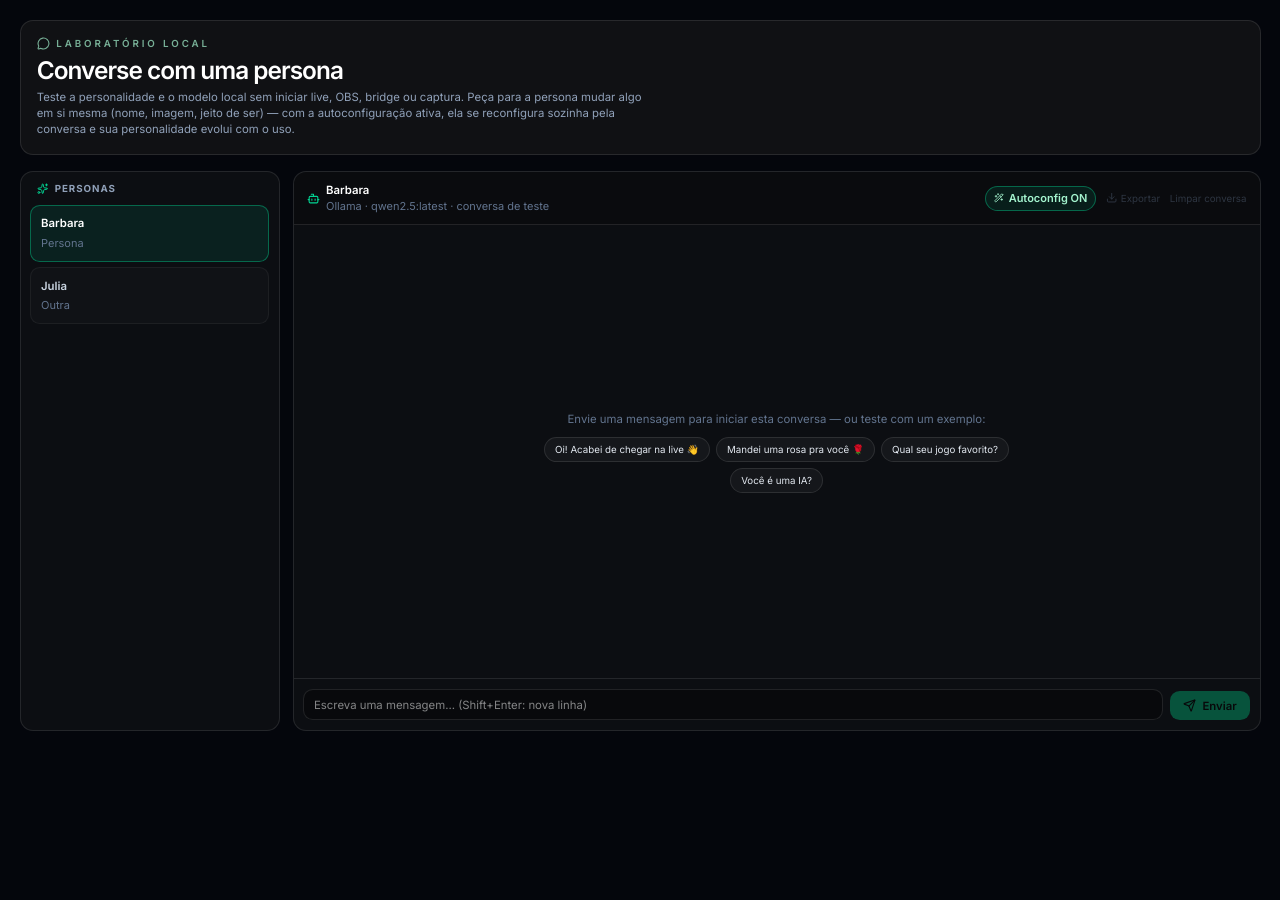
Test case: PersonaChatLab › não manda avisos de sistema nem falhas como contexto para a IA
The image size is (1280, 900).
Check: the button "Barbara Persona" is shown, box [30,204,269,262]
Type "primeira" into the text box named "Mensagem para a persona". click: [733, 705]
box: [303,689,1164,720]
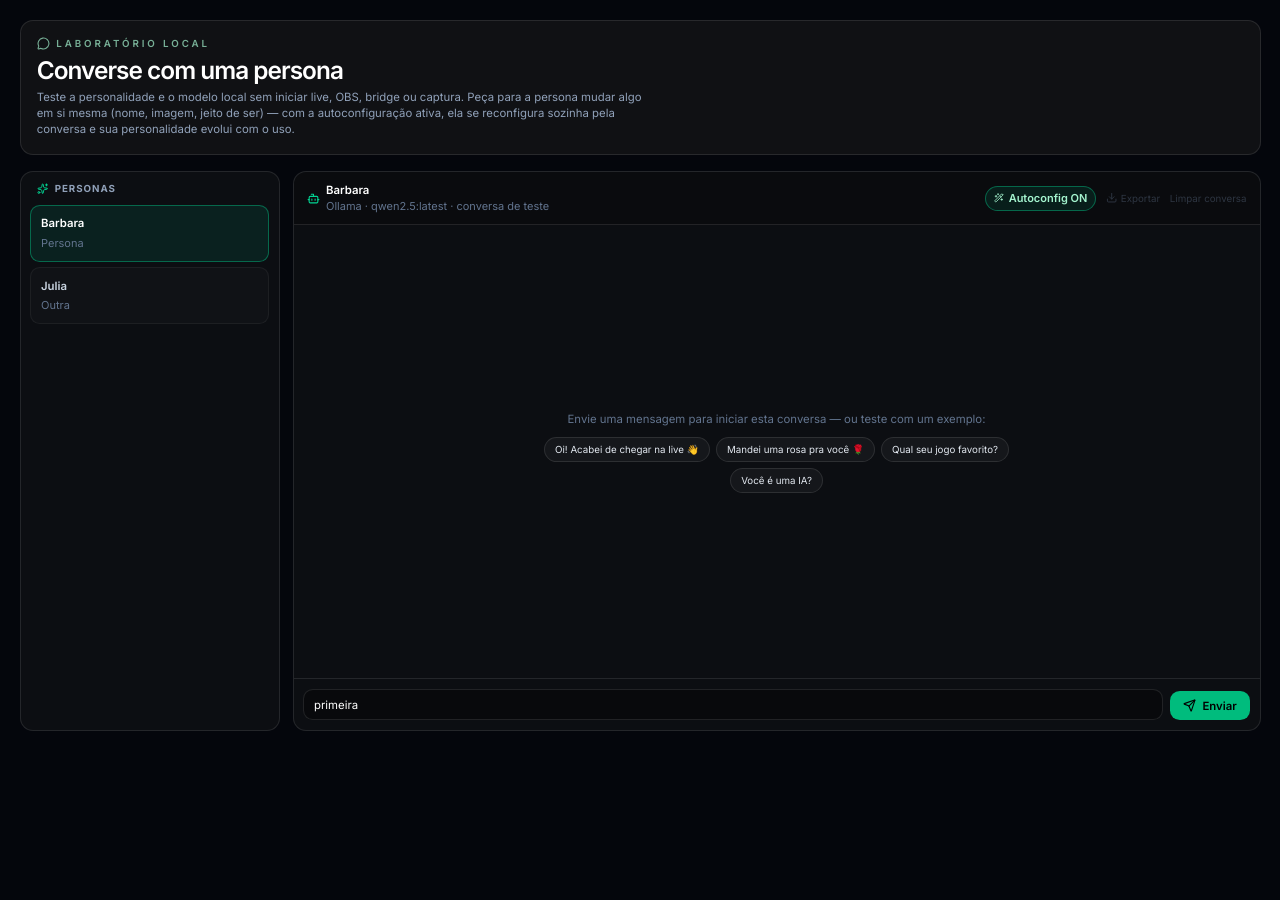
Click the button "Enviar". click: [1210, 706]
box: [1170,691,1250,720]
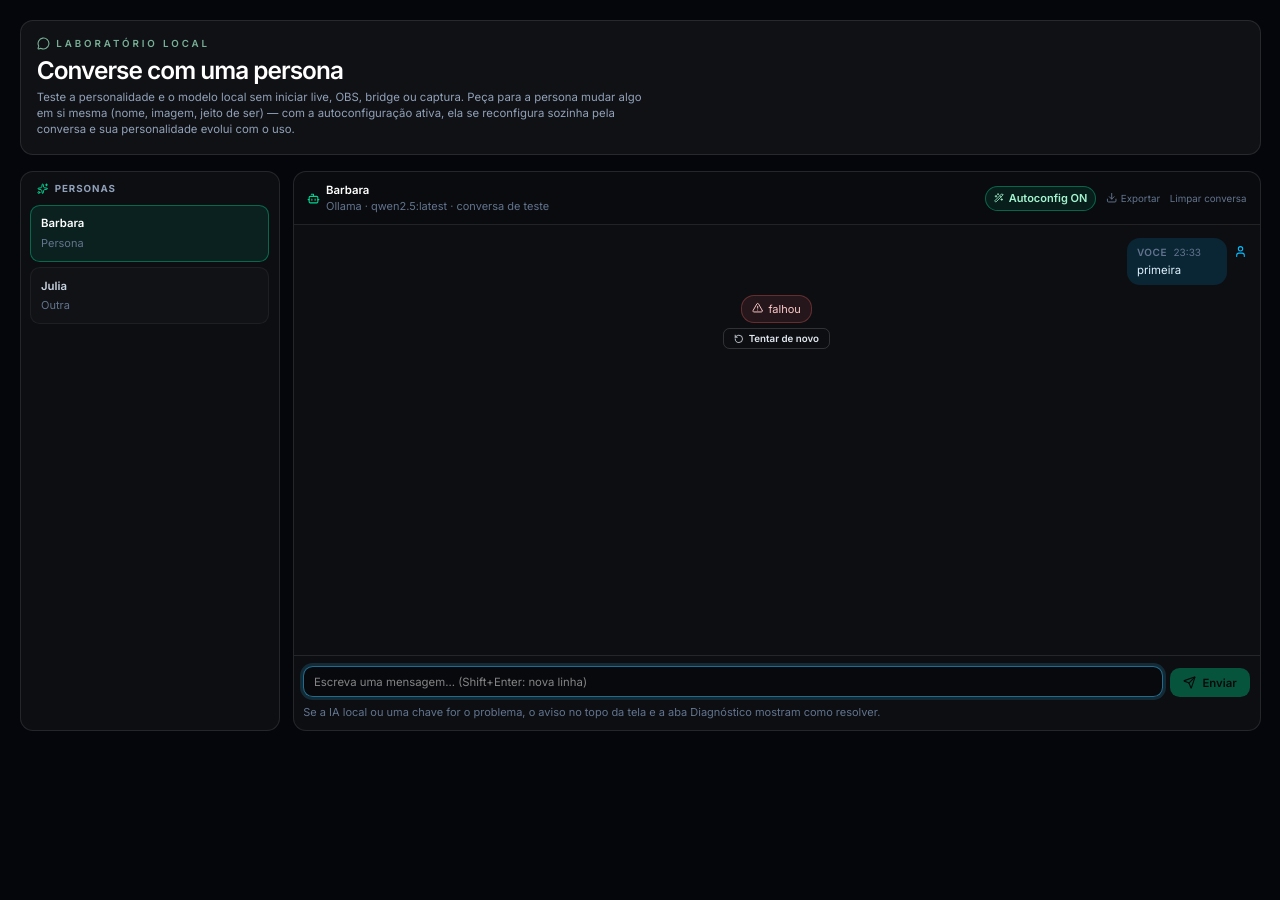
Check: the text "falhou" is shown, box [768,301,801,317]
Type "segunda" into the text box named "Mensagem para a persona". click: [733, 682]
box: [303,666,1164,697]
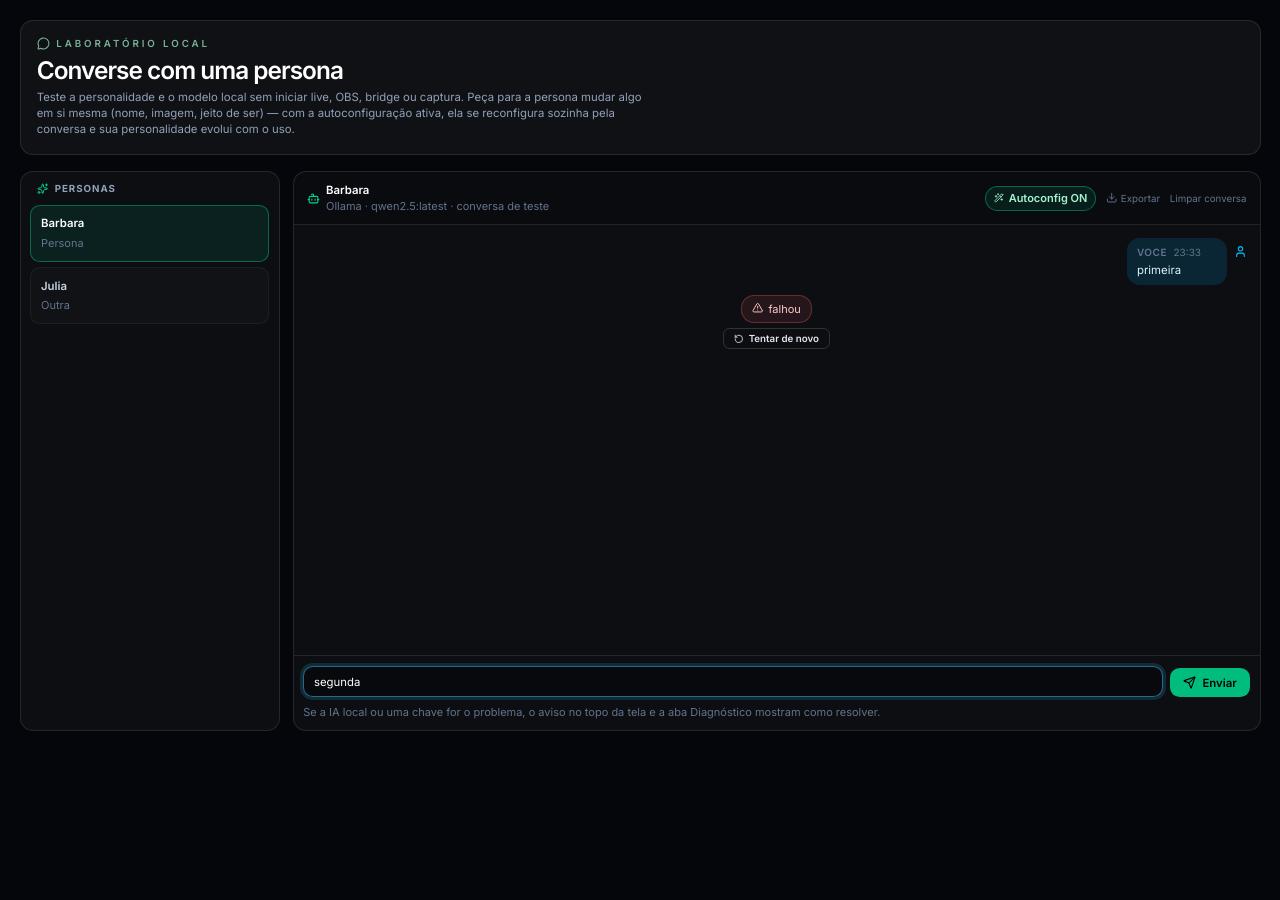
Click the button "Enviar". click: [1210, 683]
box: [1170,668,1250,697]
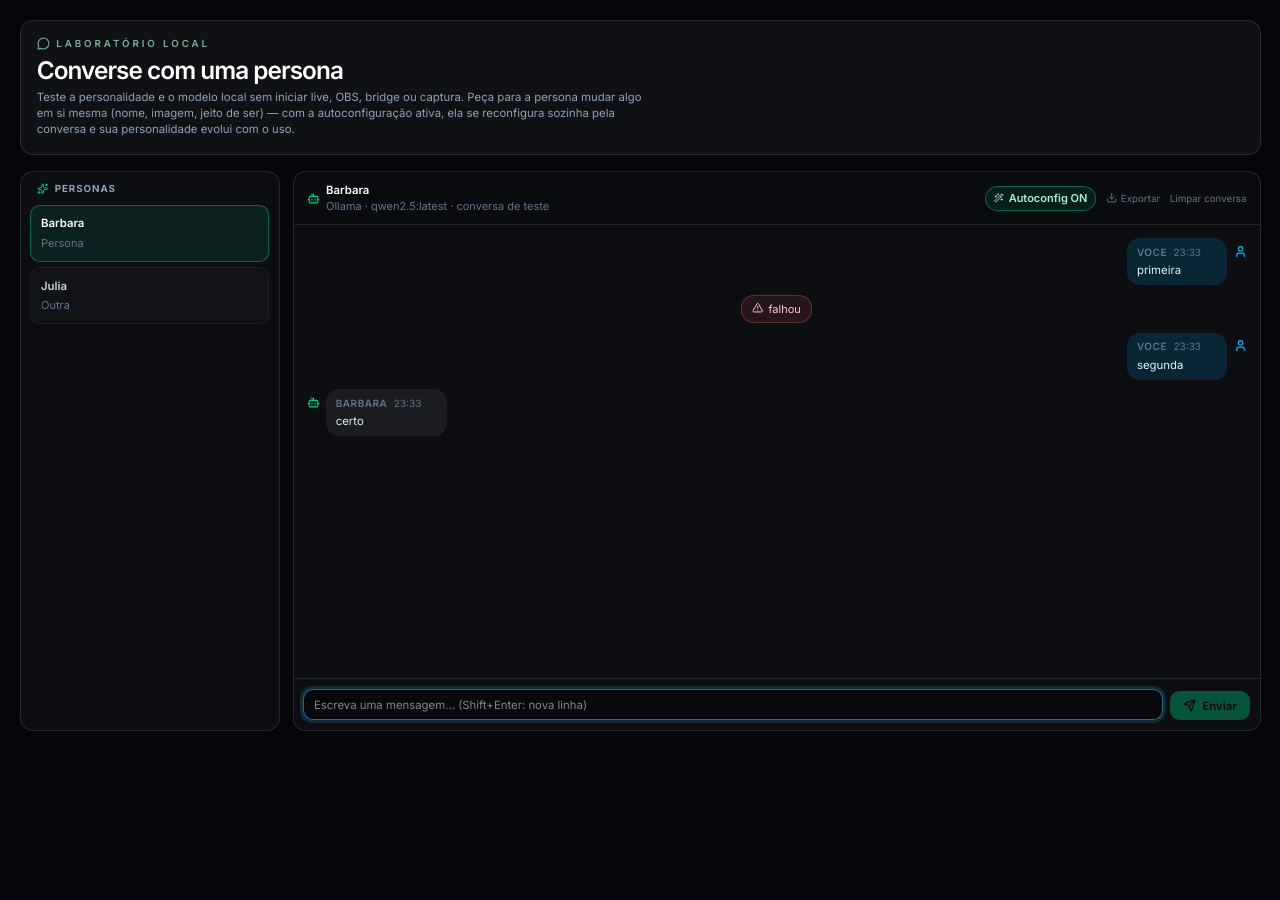
Check: the text "certo" is shown, box [336,414,364,428]
